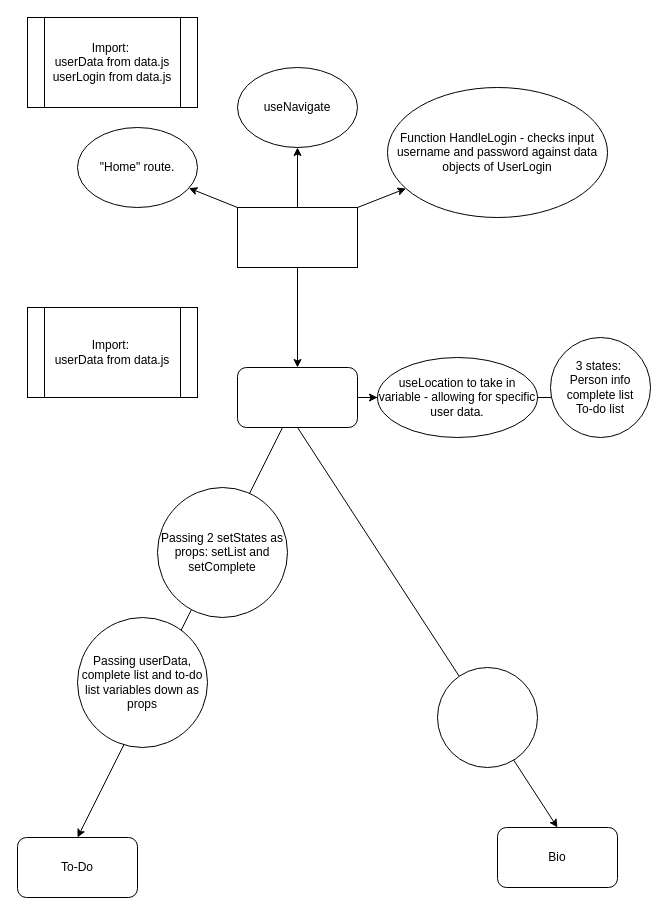
This 668x915 diagram has some shape labels left out. Each missing label, with the centre of its shape:
"App" goes at point (297, 397).
"Login" goes at point (297, 237).
"Passing Person info state down as a prop" goes at point (487, 717).
